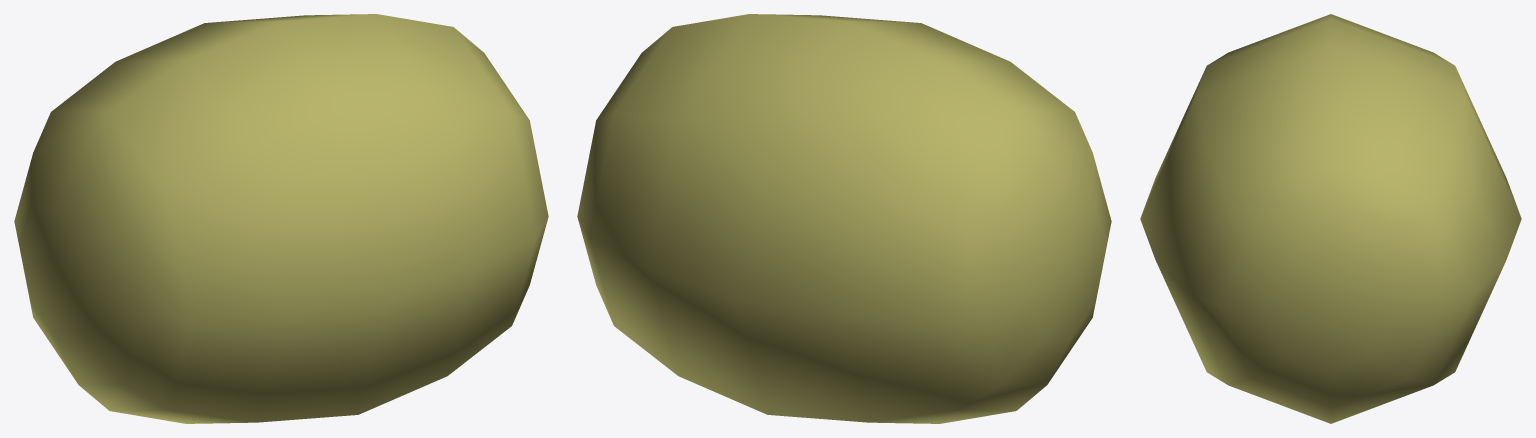
File: kiwi.glb
The picture shows the model from 3 angles, left to right: view 1: azimuth 30°, elevation 25°; view 2: azimuth 150°, elevation 25°; view 3: azimuth 270°, elevation 25°; orthographic projection. The views are drawn at different scales.
Parts seen in each view (by area): view 1: kiwi; view 2: kiwi; view 3: kiwi.
Part boxes in pixels (box(x1,y1,x2,y2)): kiwi: box(14, 14, 548, 423); kiwi: box(577, 14, 1111, 423); kiwi: box(1140, 14, 1521, 423).
Size of the model in its own units: 0.0908 by 0.0738 by 0.0738.
